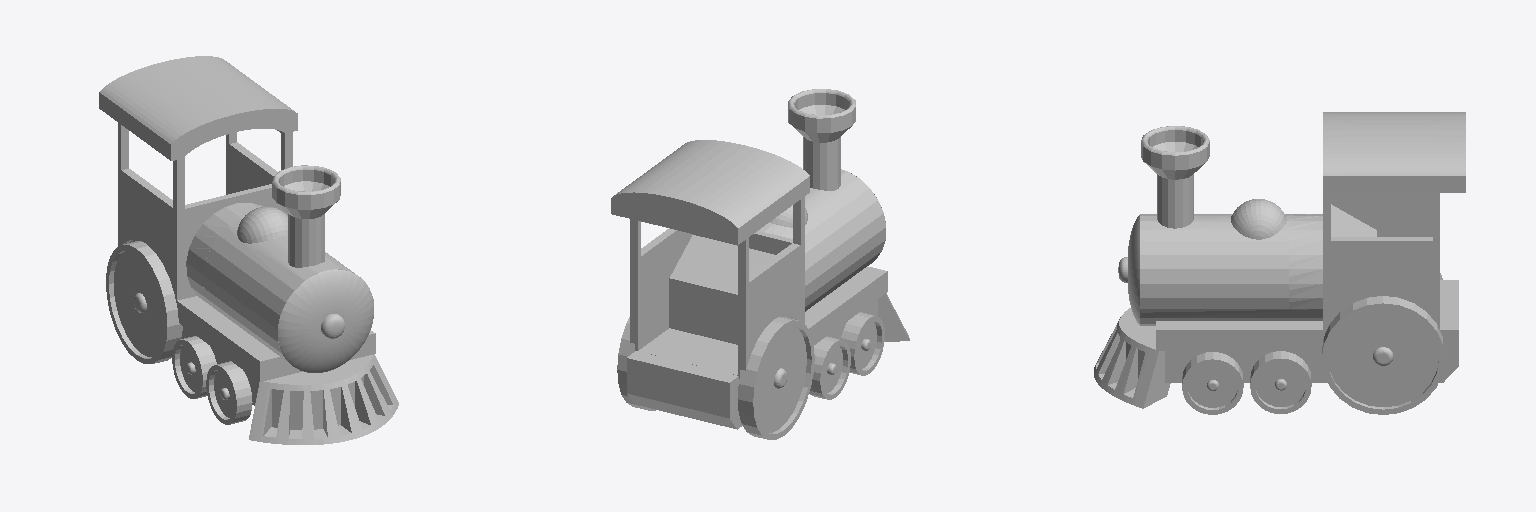
File: toytrain.obj
3 views of the same model, side by side, from view 1: azimuth 30°, elevation 25°; view 2: azimuth 150°, elevation 25°; view 3: azimuth 270°, elevation 25° (orthographic).
Parts seen in each view (by area): view 1: mat_001031, mat_001211, mat_001201; view 2: mat_001211, mat_001031, mat_001201; view 3: mat_001211, mat_001031, mat_001201.
Boxes of the visible parts, box(x1,y1,x2,y2) form: mat_001031: box(118, 122, 373, 372); mat_001211: box(99, 56, 340, 424); mat_001201: box(134, 293, 398, 444); mat_001211: box(611, 89, 884, 439); mat_001031: box(630, 169, 885, 378); mat_001201: box(627, 235, 909, 429); mat_001211: box(1141, 112, 1465, 414); mat_001031: box(1118, 193, 1439, 338); mat_001201: box(1094, 204, 1458, 408).
Size of the model in its own units: 116 by 185 by 249.